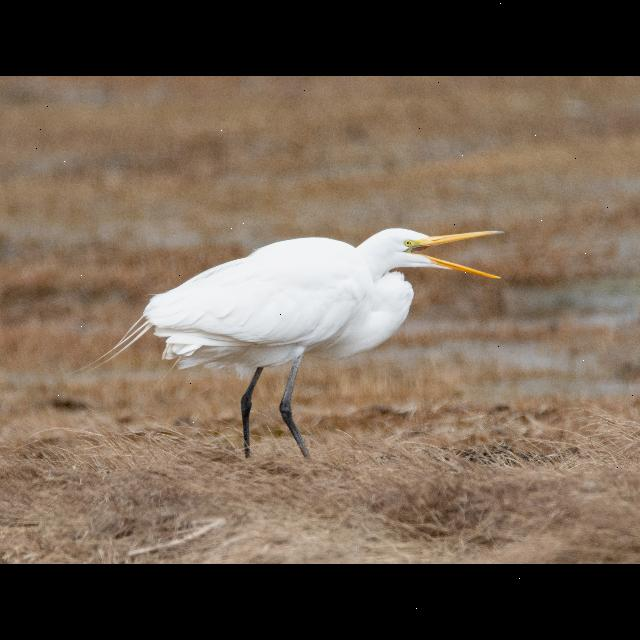egret: (99, 217, 532, 469)
